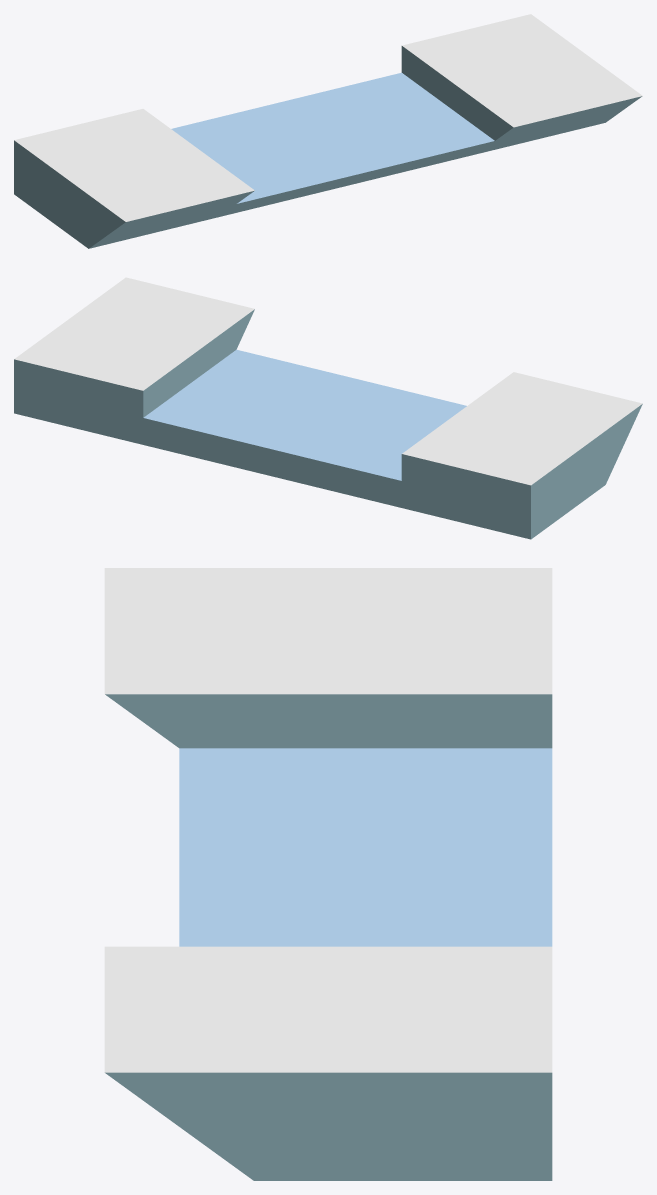
File: Terrain_Modular_Tiles_Snow_Ice_Cliff_Edge_River_Outer_03.fbx
3 renders of one model, top to bottom at view 1: azimuth 30°, elevation 25°; view 2: azimuth 150°, elevation 25°; view 3: azimuth 270°, elevation 25°, orthographic. The views are drawn at different scales.
Visible parts, largest first — view 1: Terrain_Modular_Tiles_Snow_Ice_Cliff_Edge_River_Outer_03; view 2: Terrain_Modular_Tiles_Snow_Ice_Cliff_Edge_River_Outer_03; view 3: Terrain_Modular_Tiles_Snow_Ice_Cliff_Edge_River_Outer_03.
Part boxes in pixels (left/top/right/bottom): Terrain_Modular_Tiles_Snow_Ice_Cliff_Edge_River_Outer_03: left=14, top=14, right=642, bottom=248; Terrain_Modular_Tiles_Snow_Ice_Cliff_Edge_River_Outer_03: left=14, top=277, right=642, bottom=539; Terrain_Modular_Tiles_Snow_Ice_Cliff_Edge_River_Outer_03: left=104, top=568, right=552, bottom=1180.
Size of the model in its own units: 3000 by 300 by 1125.
